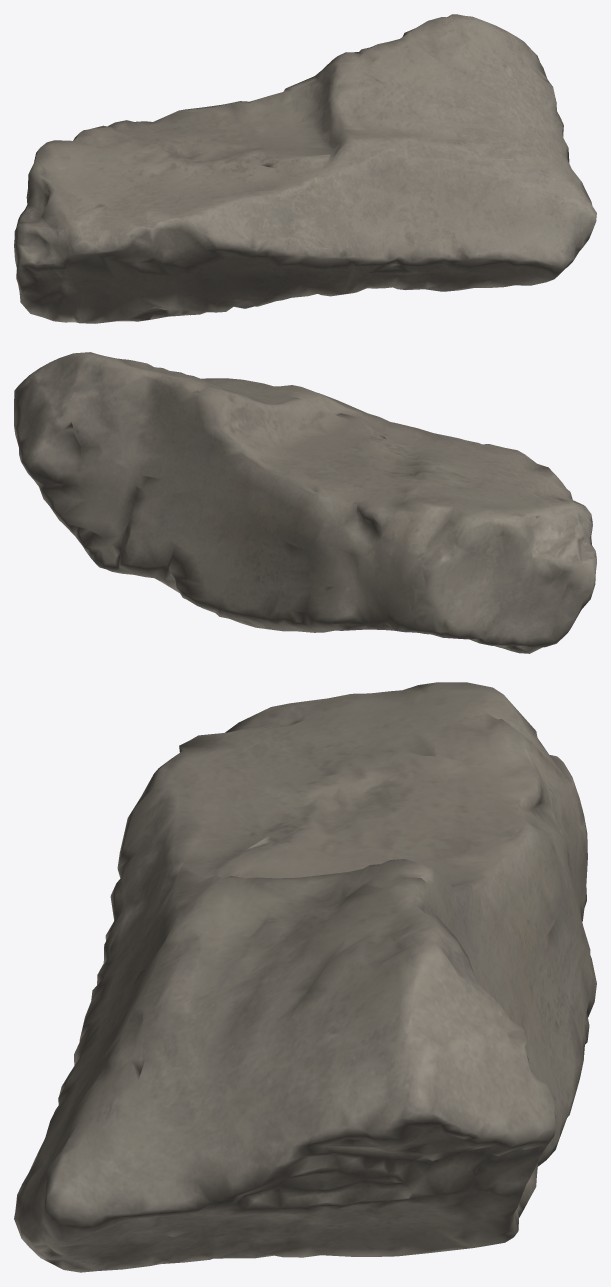
The model's file is rock_4.obj.
The picture shows the model from 3 angles, top to bottom: view 1: azimuth 30°, elevation 25°; view 2: azimuth 150°, elevation 25°; view 3: azimuth 270°, elevation 25°; orthographic projection. The views are drawn at different scales.
Visible parts, largest first — view 1: moon_rock_01_LOD1; view 2: moon_rock_01_LOD1; view 3: moon_rock_01_LOD1.
Part boxes in pixels (<box>): moon_rock_01_LOD1: <box>14,14,596,323</box>; moon_rock_01_LOD1: <box>14,352,596,653</box>; moon_rock_01_LOD1: <box>14,682,596,1272</box>.
Bounding box in the file's own units: 2.26 × 0.8014 × 1.19.
